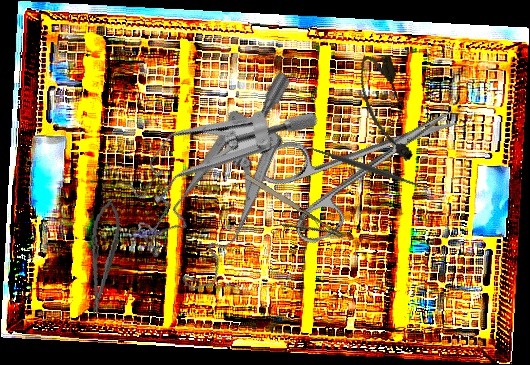Cannula: (353, 50, 420, 167)
Iris Scissors: (253, 73, 478, 252)
Needle Holder: (234, 171, 345, 258), (80, 198, 125, 316)
Spatula Surgical: (301, 138, 434, 197)
Speculum: (112, 70, 359, 302), (108, 50, 322, 279)
